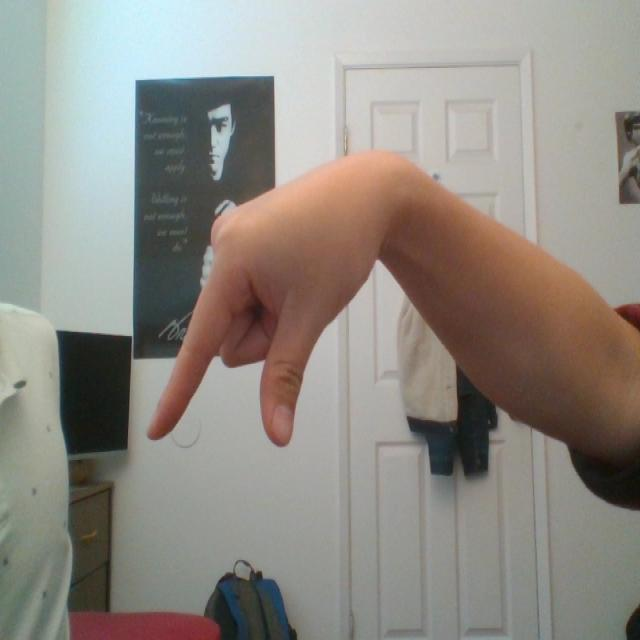Q: (127, 122, 452, 481)
